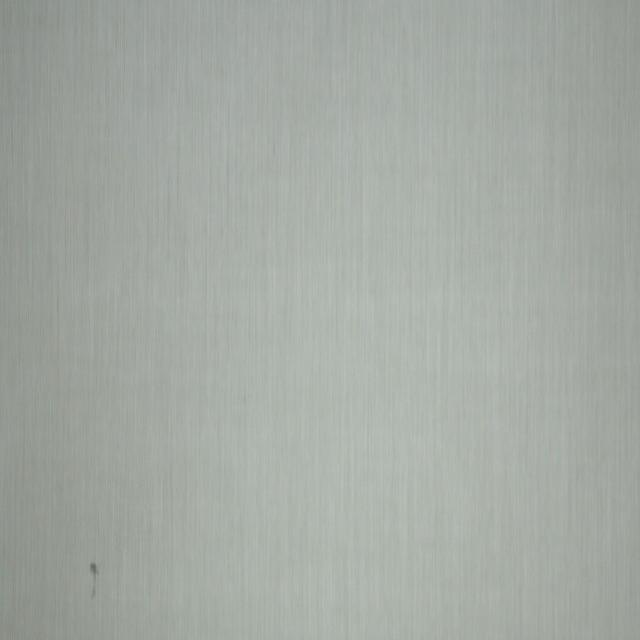dirty: (90, 560, 99, 600)
